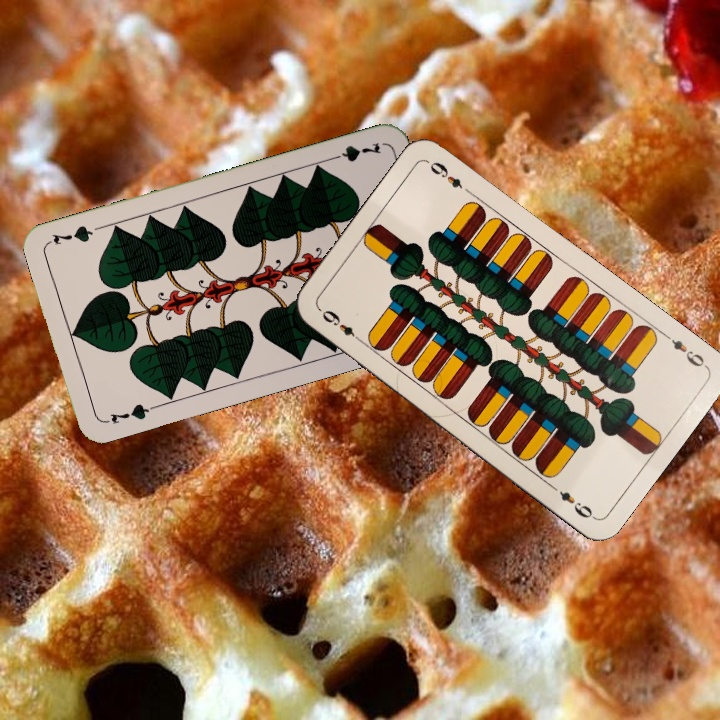E9: (315, 305, 366, 346), (659, 329, 709, 370)
G7: (325, 138, 383, 165), (106, 399, 157, 427)
